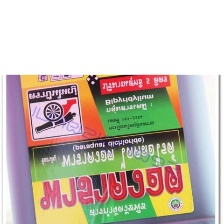insecticide: (17, 28, 197, 224)
